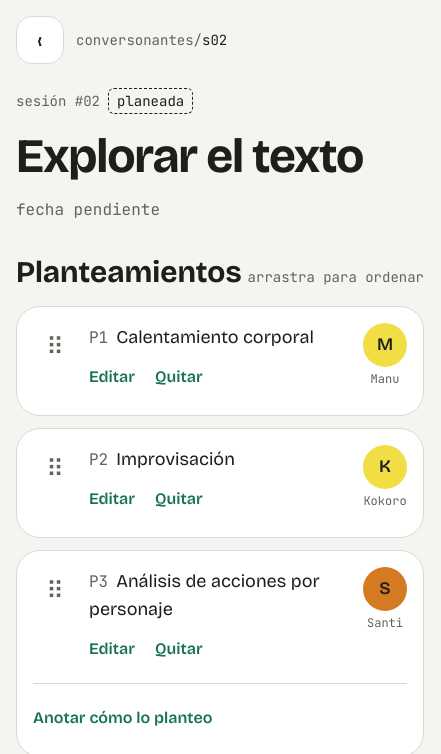
HU-08 · planteamientos de una sesión › removes one and renumbers the rest on screen
Click the button with aria-label "Quitar P1": (179, 377) x1=147 y1=355 x2=211 y2=399
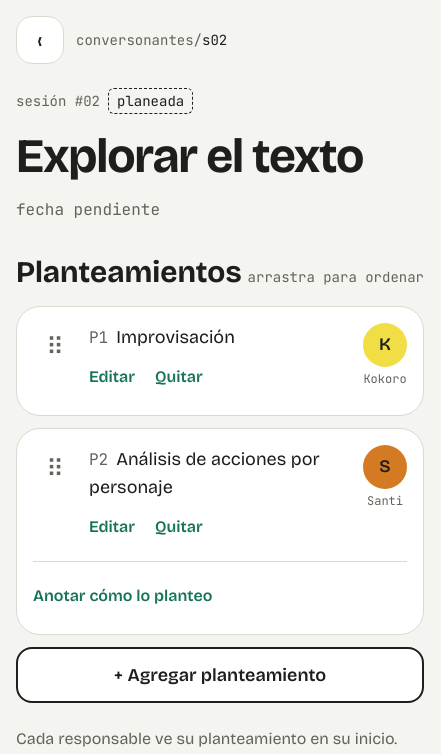
Expected: the text "P1" is shown, x1=89 y1=327 x2=108 y2=348
Expected: the number of list items is 2, x1=16 y1=306 x2=424 y2=416; x1=16 y1=428 x2=424 y2=635
